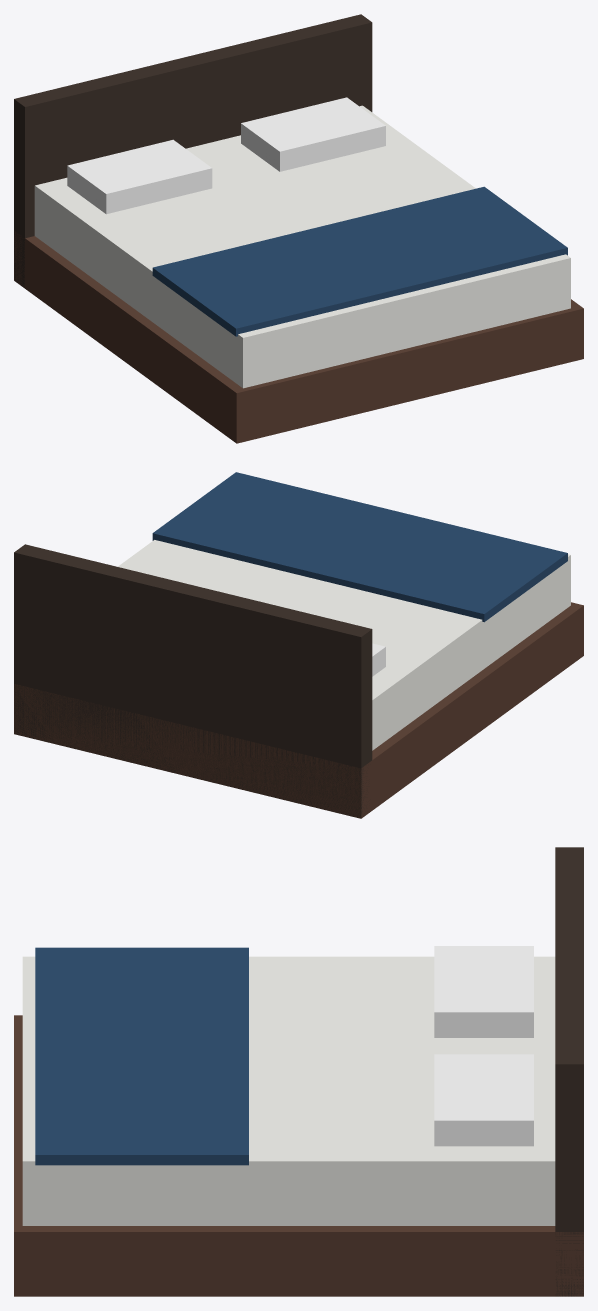
Rendered from bed_queen_modern.glb.
The picture shows the model from 3 angles, top to bottom: view 1: azimuth 30°, elevation 25°; view 2: azimuth 150°, elevation 25°; view 3: azimuth 270°, elevation 25°; orthographic projection. The views are drawn at different scales.
Visible parts, largest first — view 1: bed_queen_modern; view 2: bed_queen_modern; view 3: bed_queen_modern.
Boxes of the visible parts, x1=… form: bed_queen_modern: x1=14, y1=14, x2=583, y2=443; bed_queen_modern: x1=14, y1=472, x2=583, y2=818; bed_queen_modern: x1=14, y1=847, x2=583, y2=1296.
Size of the model in its own units: 1.8 by 0.9 by 2.
